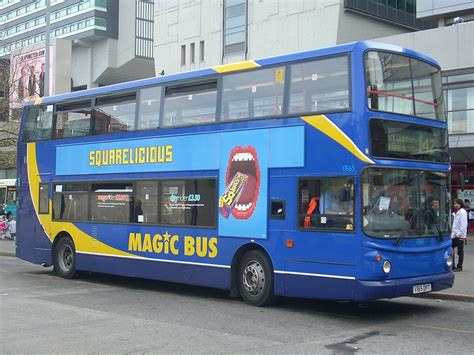bus: (15, 46, 453, 296)
